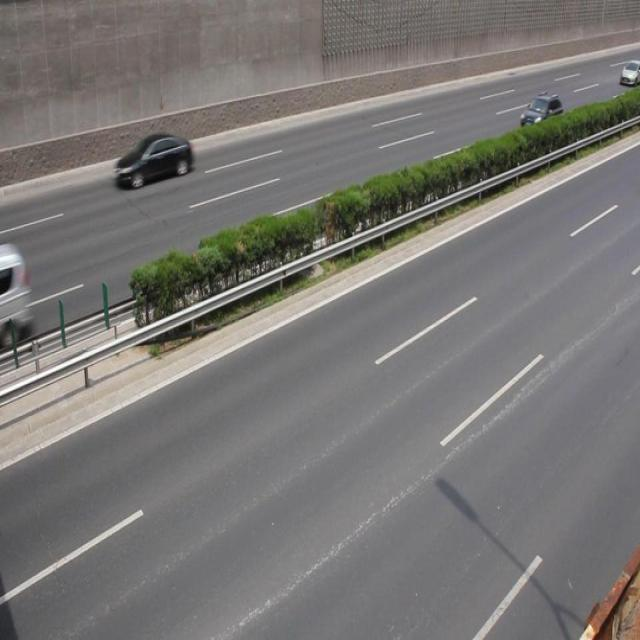car: (114, 134, 194, 191), (520, 92, 561, 138)
truck: (1, 242, 30, 352)
